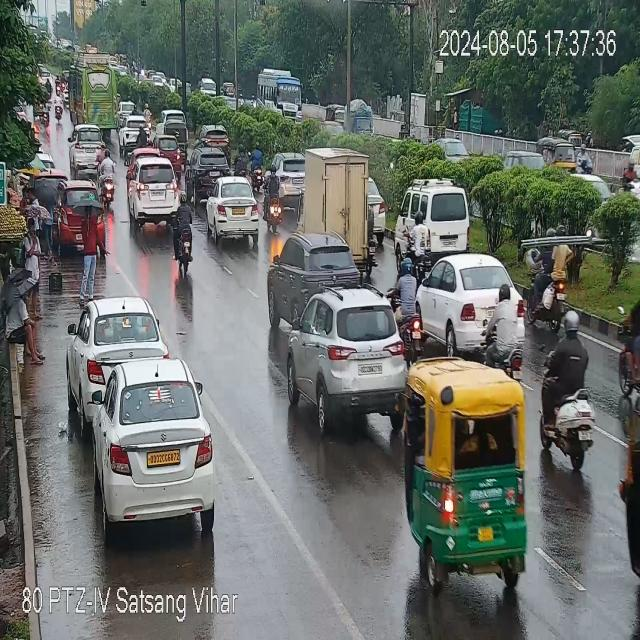2-wheelers: (542, 326, 596, 464), (528, 218, 576, 316), (484, 292, 526, 372), (616, 292, 640, 409), (395, 256, 421, 342), (170, 201, 199, 271), (262, 166, 283, 228), (96, 159, 116, 209), (620, 154, 640, 198), (414, 210, 427, 274), (368, 201, 378, 271), (249, 147, 265, 184), (577, 144, 595, 174), (236, 138, 247, 174), (55, 90, 62, 122), (43, 100, 49, 127), (142, 101, 152, 117), (56, 74, 61, 95), (46, 80, 51, 94), (133, 105, 138, 114)
auto: (403, 350, 530, 580), (544, 132, 574, 178), (222, 82, 236, 98)
bus: (66, 55, 120, 127), (258, 67, 302, 118)
car: (76, 360, 218, 533), (288, 288, 412, 411), (416, 255, 524, 342), (74, 298, 163, 396), (399, 186, 476, 252), (276, 237, 366, 288), (128, 162, 184, 230), (59, 182, 107, 260), (204, 185, 262, 240), (70, 125, 108, 167), (271, 153, 304, 195), (192, 150, 236, 173), (370, 180, 386, 233), (121, 117, 150, 145), (198, 126, 234, 148), (153, 136, 183, 155), (162, 110, 189, 129)
pedestrian: (6, 290, 44, 363), (80, 205, 107, 289), (25, 215, 39, 283), (20, 181, 39, 214)
truck: (299, 148, 388, 269)
